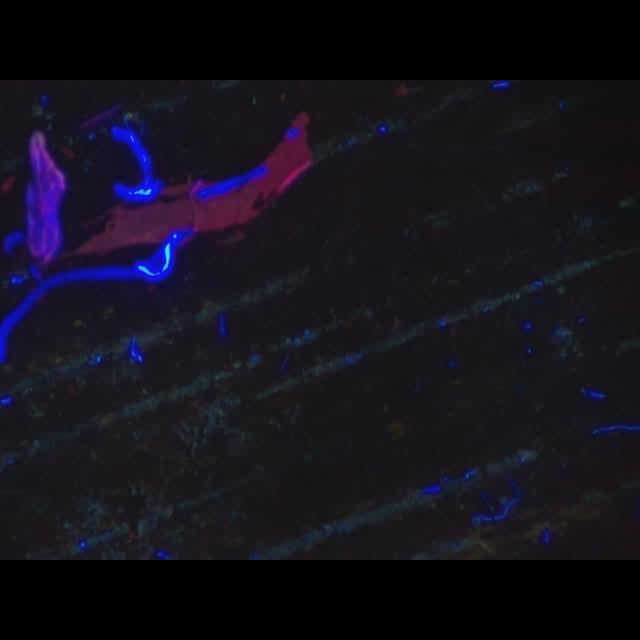Fragment: (192, 111, 314, 232)
